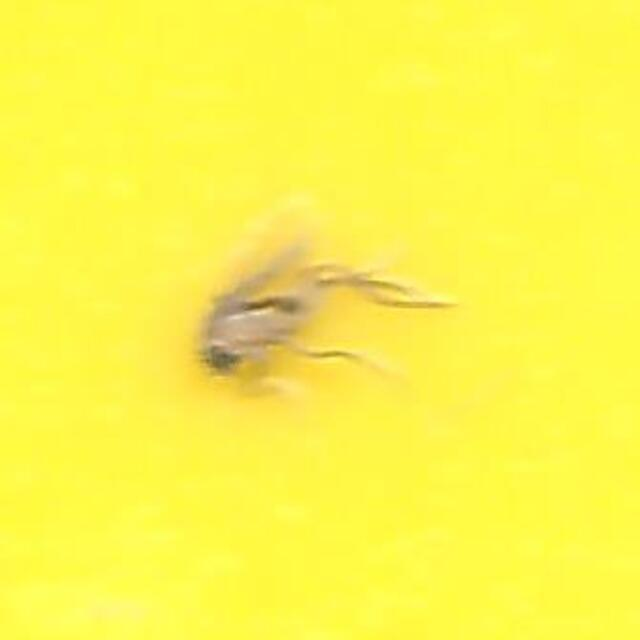Nematocera: (191, 213, 449, 427)
